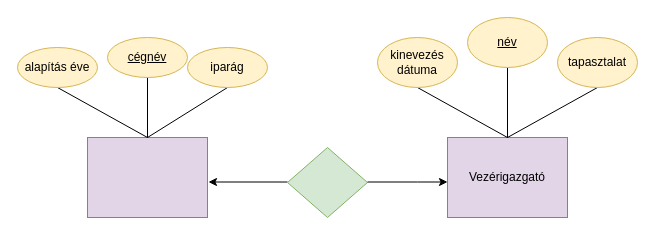
Image size: 655x235. Some labels were removed from this diagram. The shapes that lost their labels are listed below. From the top down, each one's box as (x1, y1, x2, y2) in pixels, then its label:
(86, 136, 208, 218): Cég
(286, 146, 368, 218): a-r
